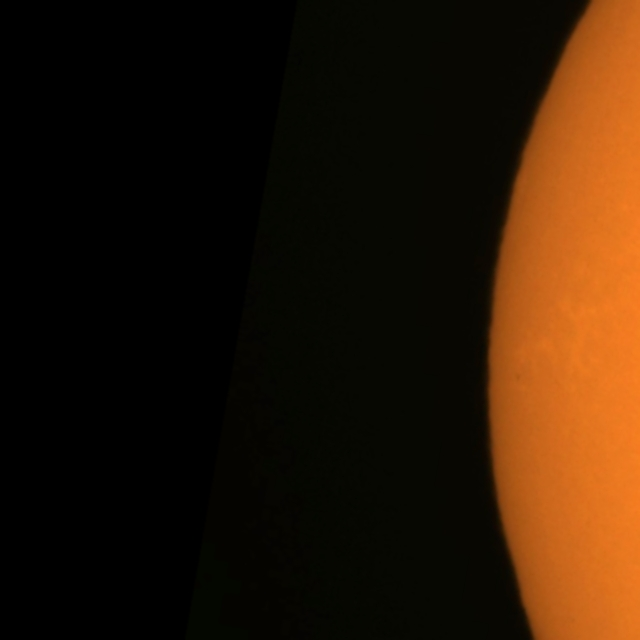sunspot: (513, 370, 523, 384)
